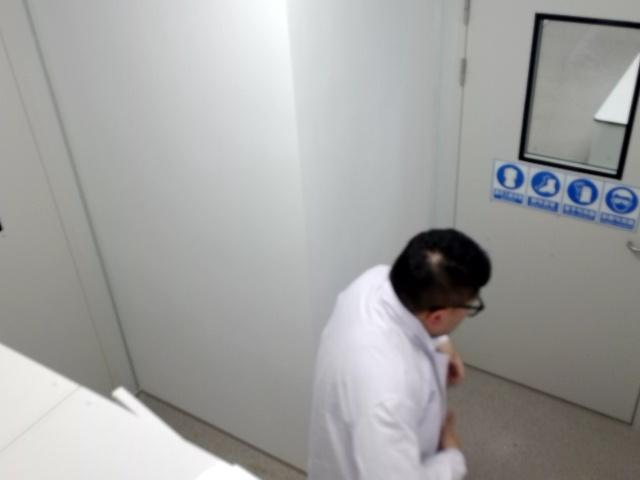Lab_coat: (309, 229, 490, 479)
